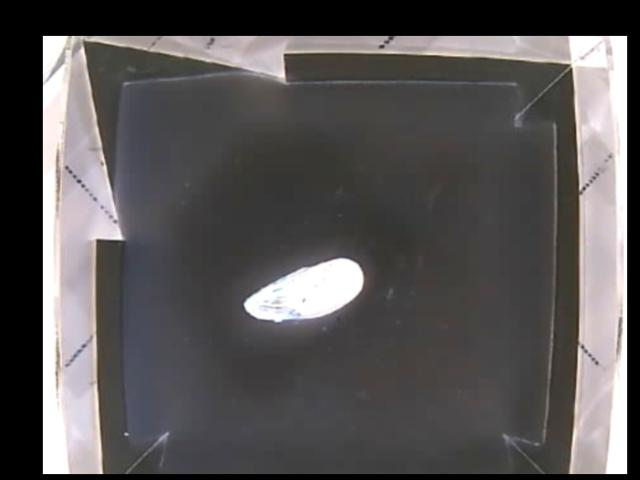Shell: (243, 258, 364, 323)
